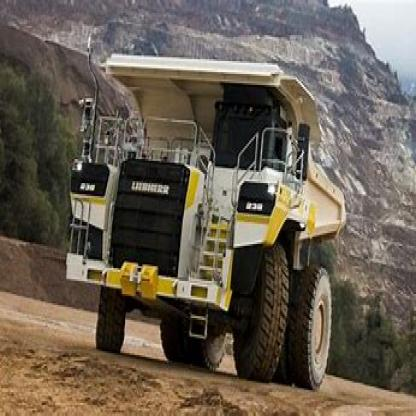dump_truck: (62, 26, 352, 386)
